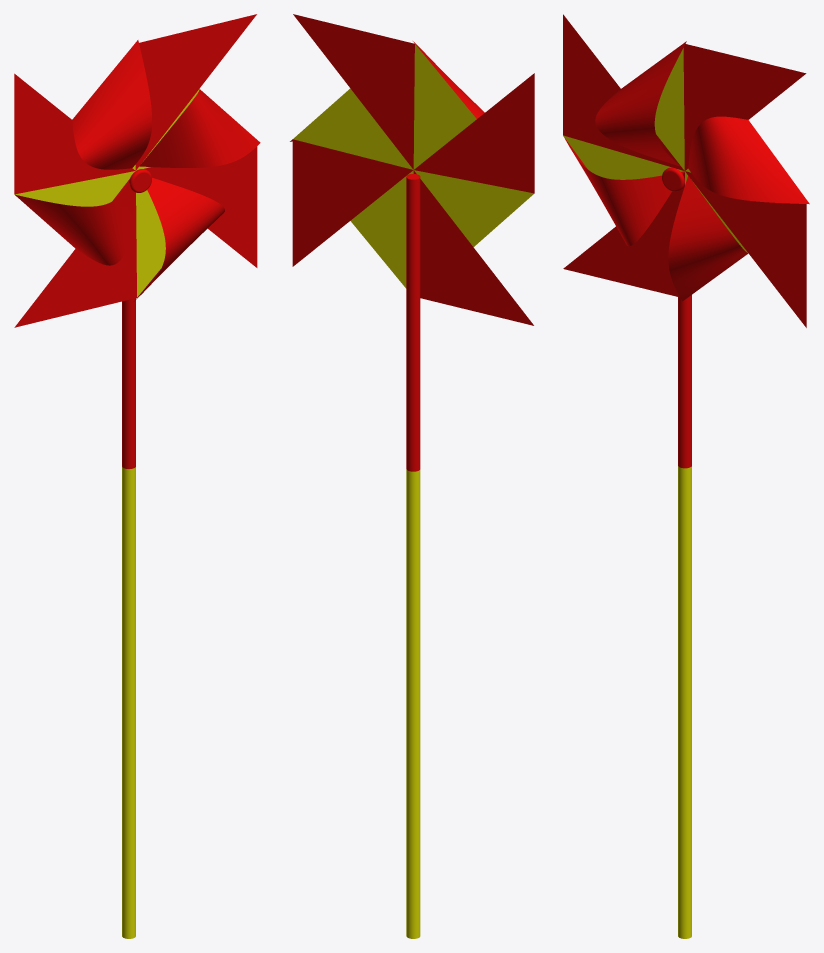
Rendered from Windwheel.fbx.
3 renders of one model, left to right at view 1: azimuth 30°, elevation 25°; view 2: azimuth 150°, elevation 25°; view 3: azimuth 330°, elevation 25°, orthographic.
Parts seen in each view (by area): view 1: uploads_files_356775_pinwheel_obj:Mesh; view 2: uploads_files_356775_pinwheel_obj:Mesh; view 3: uploads_files_356775_pinwheel_obj:Mesh.
Boxes of the visible parts, x1=… form: uploads_files_356775_pinwheel_obj:Mesh: x1=14, y1=14, x2=260, y2=938; uploads_files_356775_pinwheel_obj:Mesh: x1=290, y1=14, x2=534, y2=938; uploads_files_356775_pinwheel_obj:Mesh: x1=563, y1=14, x2=809, y2=938.
Size of the model in its own units: 1.15 by 4 by 0.2436.
